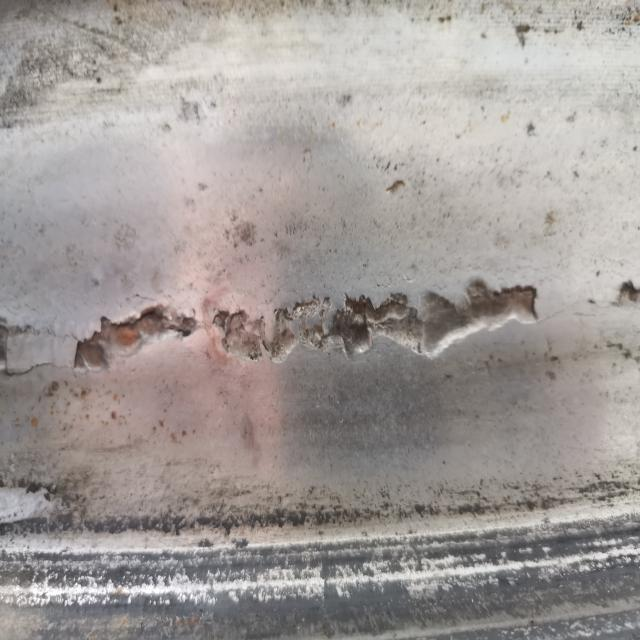Blue hole: (613, 275, 637, 313), (515, 24, 534, 53)
Contact_Fatigue_Cracks: (1, 349, 63, 379)
Peeling: (316, 284, 542, 359), (75, 303, 192, 372), (211, 310, 297, 368), (386, 178, 412, 193), (544, 104, 548, 108)
